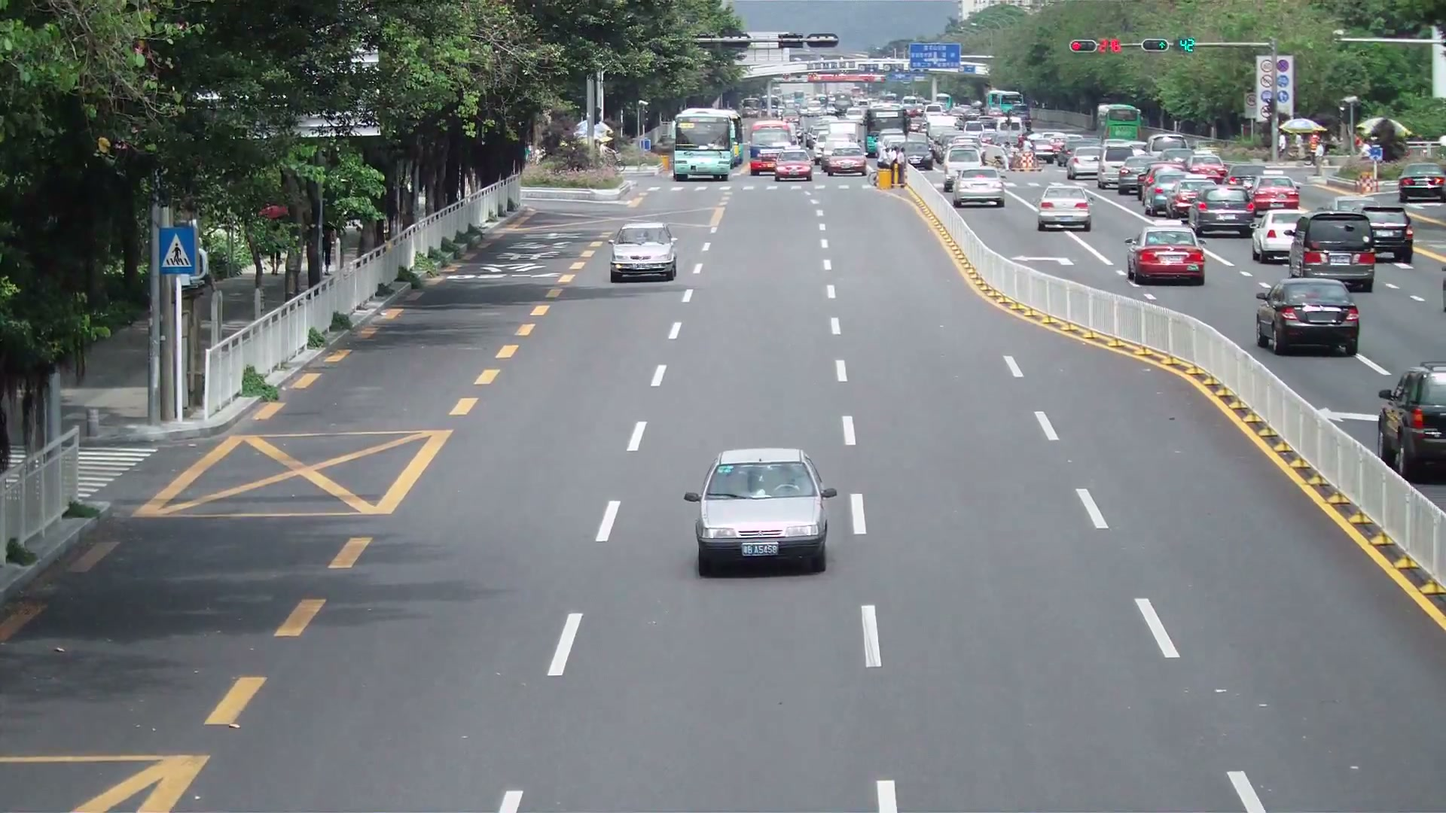car: (684, 447, 837, 577), (1376, 361, 1446, 482), (1261, 276, 1361, 356), (1287, 209, 1379, 293), (1123, 223, 1206, 287), (610, 219, 678, 281), (1192, 184, 1253, 238), (1035, 184, 1094, 231), (1249, 209, 1301, 262), (951, 168, 1004, 209), (1397, 166, 1445, 203), (774, 150, 814, 182), (749, 150, 784, 176)
truck: (673, 107, 744, 180)
